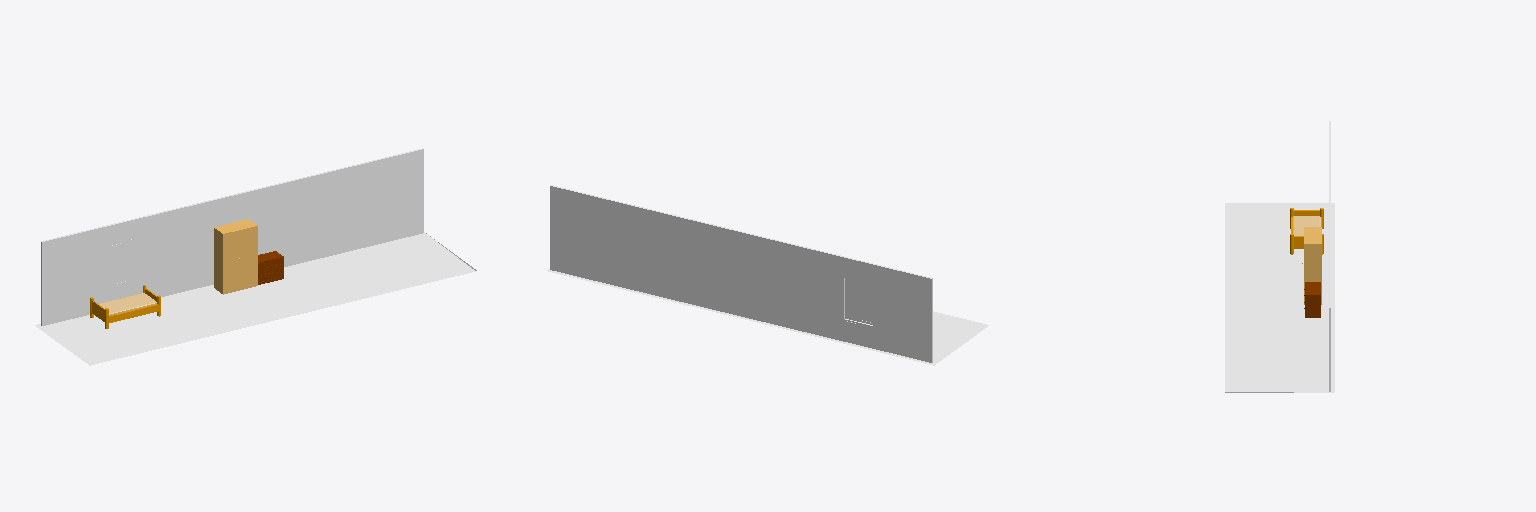
Rendered from pared habitacon edgar.obj.
The picture shows the model from 3 angles: view 1: azimuth 30°, elevation 25°; view 2: azimuth 150°, elevation 25°; view 3: azimuth 270°, elevation 25°; orthographic projection.
Parts seen in each view (by area): view 1: wall_1_5, room_2_8, sweethome3d_opening_on_hinge_1_door_11, Corps_9, sweethome3d_opening_on_hinge_2_door_17, Matelas_45; view 2: wall_1_4, room_2_8; view 3: room_2_8, Corps_9, Corps_18.
Boxes of the visible parts, box(x1,y1,x2,y2) form: wall_1_5: box(42, 149, 423, 325); room_2_8: box(35, 232, 475, 365); sweethome3d_opening_on_hinge_1_door_11: box(223, 230, 240, 290); Corps_9: box(214, 219, 257, 294); sweethome3d_opening_on_hinge_2_door_17: box(241, 226, 257, 286); Matelas_45: box(99, 293, 156, 315); wall_1_4: box(550, 186, 931, 362); room_2_8: box(547, 269, 988, 365); room_2_8: box(1225, 203, 1334, 392); Corps_9: box(1304, 227, 1321, 304); Corps_18: box(1305, 282, 1320, 317).
Size of the model in its own units: 1455 by 302 by 360.